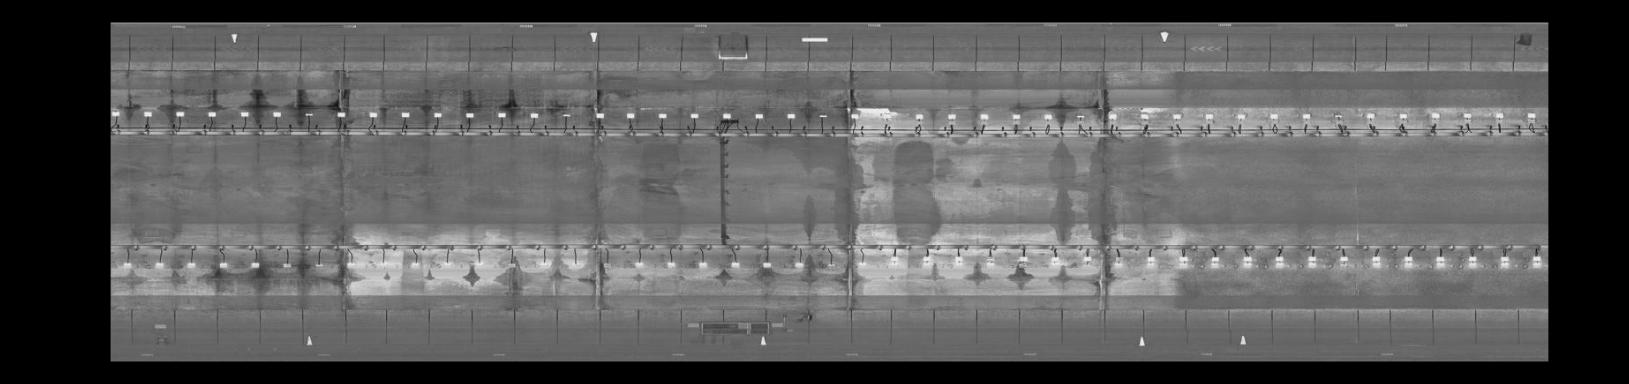light: (1269, 252, 1288, 272), (1301, 254, 1321, 271), (1337, 253, 1357, 269), (1076, 254, 1100, 267), (1237, 253, 1255, 270), (877, 109, 897, 124), (1139, 255, 1160, 268), (1101, 109, 1120, 124), (1263, 108, 1282, 122), (1326, 109, 1347, 121), (117, 259, 137, 273), (597, 259, 617, 273), (183, 258, 201, 273), (1009, 109, 1026, 124), (984, 254, 1002, 269), (277, 259, 296, 273), (1168, 111, 1187, 124), (461, 109, 478, 124), (1175, 255, 1192, 270), (1207, 256, 1224, 271), (1111, 257, 1128, 271), (1367, 254, 1385, 268), (1457, 110, 1477, 121), (1425, 111, 1444, 124), (1521, 109, 1540, 121), (1399, 254, 1418, 267), (1041, 109, 1057, 124), (1137, 110, 1152, 125), (1299, 109, 1314, 124), (237, 108, 253, 121), (694, 259, 711, 273), (365, 109, 382, 121), (247, 260, 265, 273), (943, 111, 961, 124), (1431, 255, 1448, 268), (214, 259, 233, 271), (503, 259, 522, 271), (567, 259, 586, 271), (1045, 255, 1064, 267), (399, 108, 413, 122), (952, 253, 966, 268), (911, 110, 927, 124), (590, 109, 607, 121), (408, 258, 425, 271), (887, 256, 904, 269), (752, 109, 769, 121), (1201, 109, 1218, 121), (1233, 111, 1250, 124), (1528, 255, 1545, 268), (1463, 254, 1483, 265), (535, 259, 553, 271), (662, 259, 679, 271), (791, 259, 808, 271), (1495, 256, 1513, 268), (1017, 254, 1032, 268), (333, 108, 349, 120), (312, 258, 327, 271), (300, 109, 317, 120), (1395, 111, 1412, 122), (527, 110, 544, 120), (726, 260, 744, 271), (919, 254, 934, 267), (1363, 109, 1378, 121), (1493, 109, 1507, 121), (633, 259, 648, 271), (978, 112, 993, 124), (493, 110, 510, 120), (686, 109, 702, 119), (173, 109, 187, 121), (623, 109, 637, 121), (1073, 111, 1087, 124), (152, 259, 166, 271), (655, 110, 670, 120), (431, 110, 445, 121), (760, 260, 774, 272), (140, 109, 155, 119), (269, 109, 284, 119), (344, 259, 359, 269), (471, 257, 486, 267), (824, 260, 839, 270), (782, 112, 798, 121), (849, 112, 864, 121), (205, 109, 218, 119), (814, 112, 829, 121), (718, 111, 733, 119), (375, 259, 390, 268), (559, 111, 573, 119), (438, 259, 455, 267), (856, 260, 871, 269), (111, 109, 124, 118)
